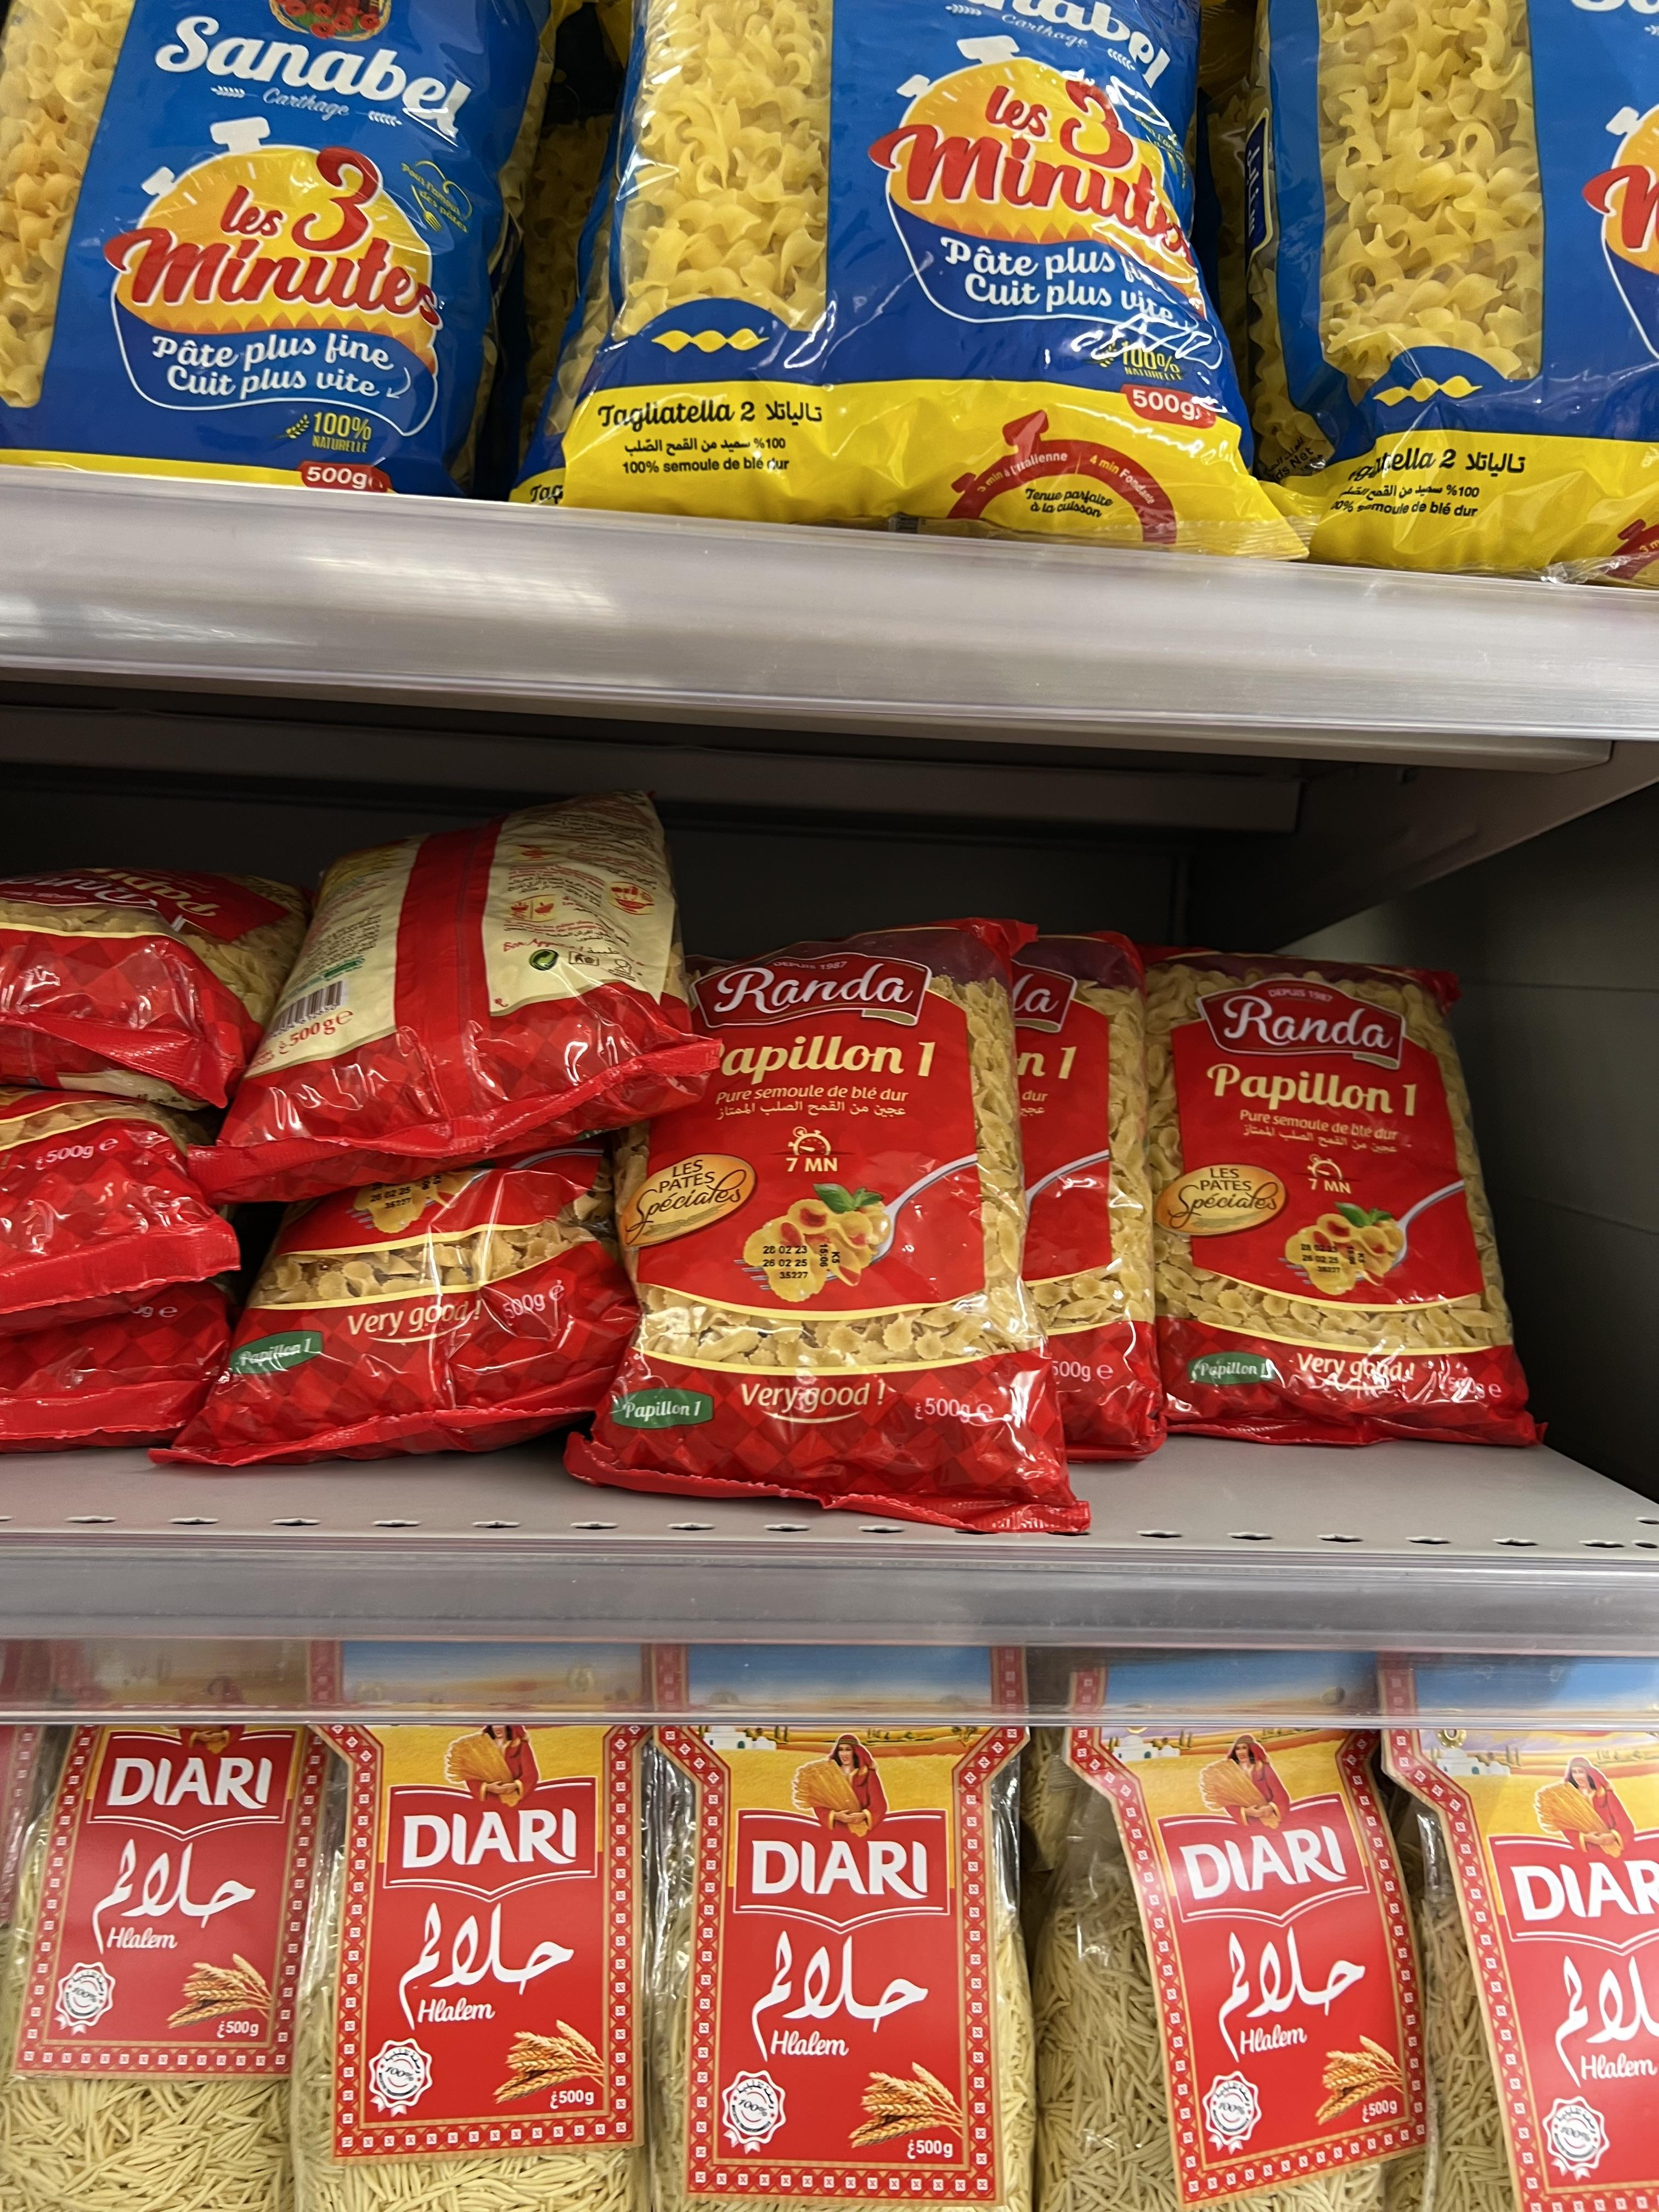Papillon: (429, 1258, 803, 2026), (868, 1266, 1145, 1923), (181, 1083, 544, 1581), (153, 1529, 432, 1954), (230, 1529, 437, 1886)
